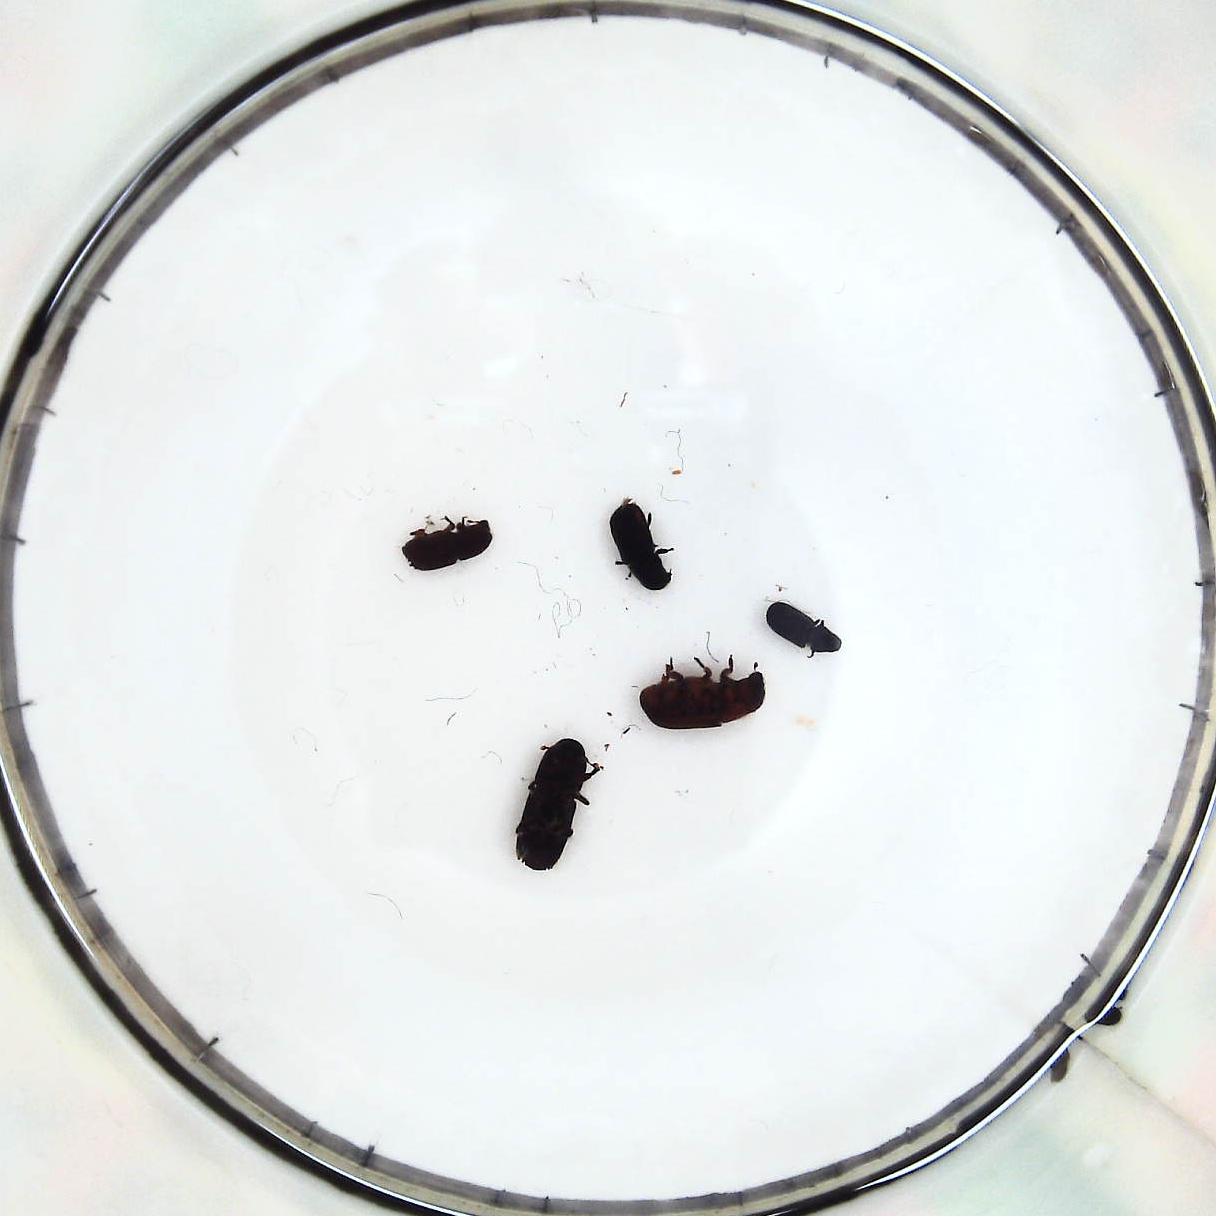Boerner: (518, 735, 589, 867)
Leconte: (641, 658, 767, 730)
Linnaeus: (403, 521, 489, 571)
armandi: (607, 501, 674, 592)
coleoptera: (762, 595, 841, 665)
